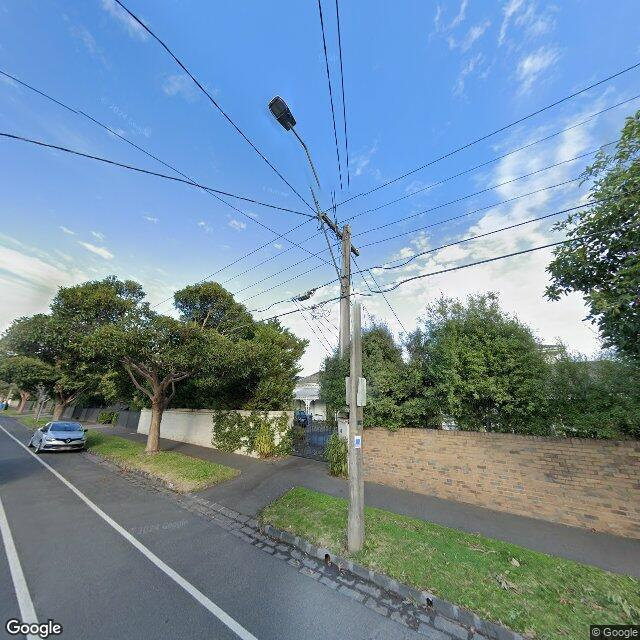crossarm: (320, 212, 360, 256)
streetlight: (269, 95, 347, 298)
timber-pole: (341, 226, 364, 552)
